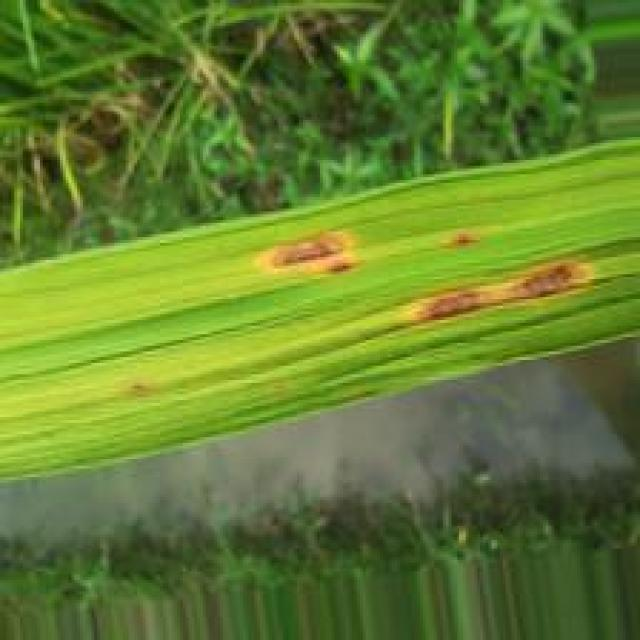Narrow_Brown_Leaf_Spot: (396, 246, 608, 334), (237, 215, 363, 283), (446, 228, 478, 252)
